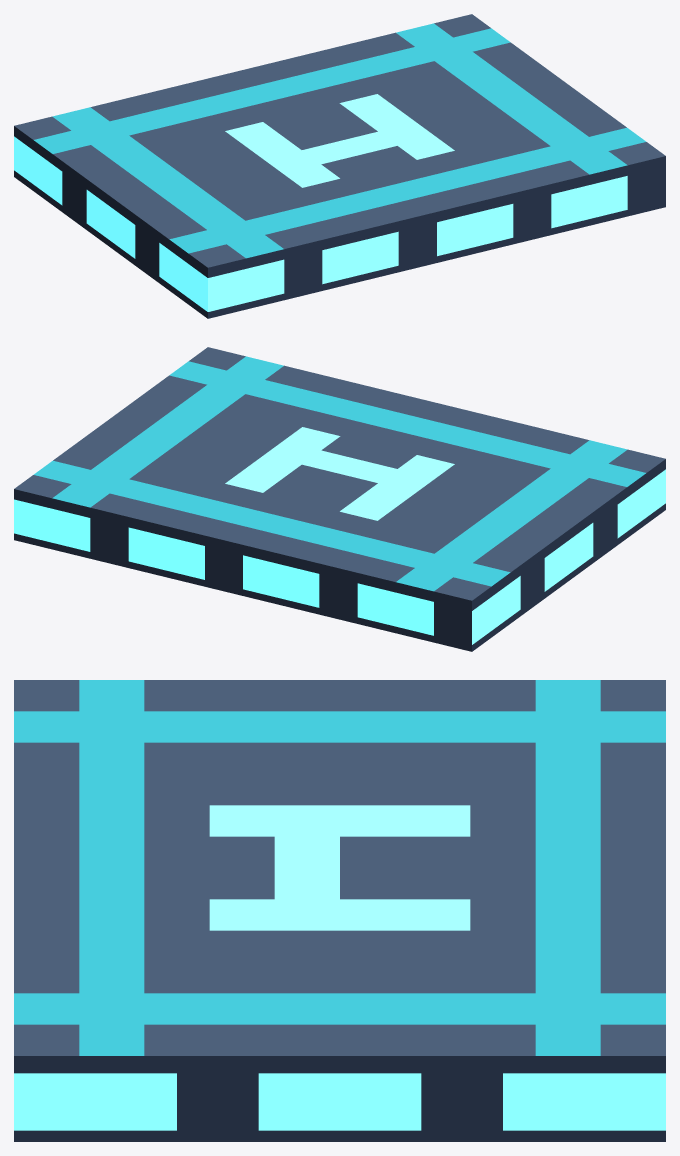
Rendered from deck_neon.glb.
The picture shows the model from 3 angles, top to bottom: view 1: azimuth 30°, elevation 25°; view 2: azimuth 150°, elevation 25°; view 3: azimuth 270°, elevation 25°; orthographic projection. The views are drawn at different scales.
Parts seen in each view (by area): view 1: detail_Roof slate, detail_Cyan enamel, detail_Window glow, detail_Midnight alloy; view 2: detail_Roof slate, detail_Cyan enamel, detail_Window glow, detail_Midnight alloy; view 3: detail_Roof slate, detail_Cyan enamel, detail_Window glow, detail_Midnight alloy.
Boxes of the visible parts, <box> form: detail_Roof slate: <box>14,14,665,267</box>; detail_Cyan enamel: <box>34,23,646,258</box>; detail_Window glow: <box>14,94,627,311</box>; detail_Midnight alloy: <box>14,126,665,318</box>; detail_Roof slate: <box>14,347,665,600</box>; detail_Cyan enamel: <box>33,356,645,591</box>; detail_Window glow: <box>14,427,665,644</box>; detail_Midnight alloy: <box>14,459,665,651</box>; detail_Roof slate: <box>14,680,665,1055</box>; detail_Cyan enamel: <box>14,680,665,1055</box>; detail_Window glow: <box>14,805,665,1130</box>; detail_Midnight alloy: <box>14,1056,665,1141</box>.
Bounding box in the file's own units: 30 × 3.2 × 22.
